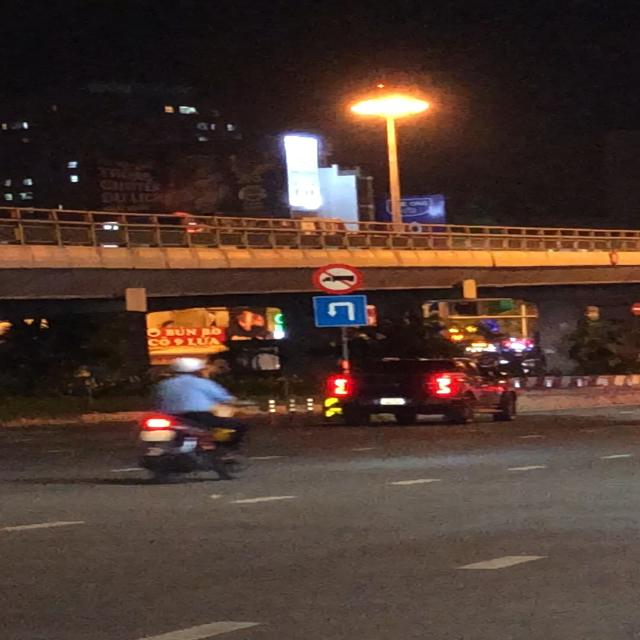Bien bao cam xe so-mi ro-mooc: (312, 262, 366, 296)
